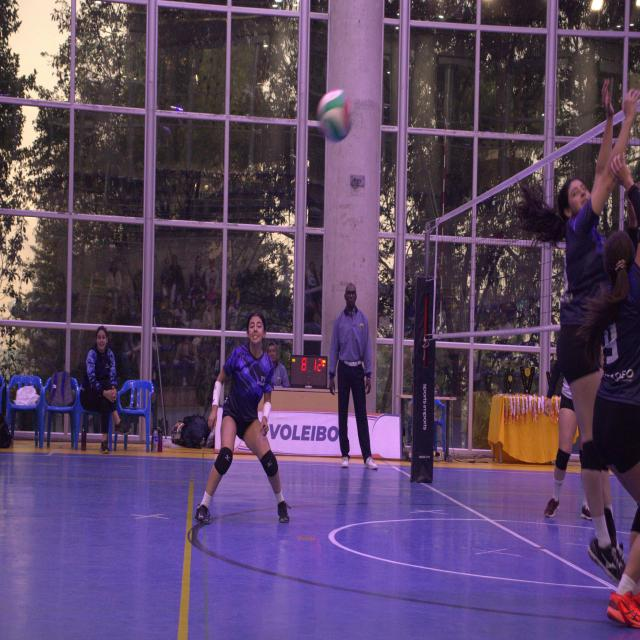volleyball: (318, 90, 352, 146)
